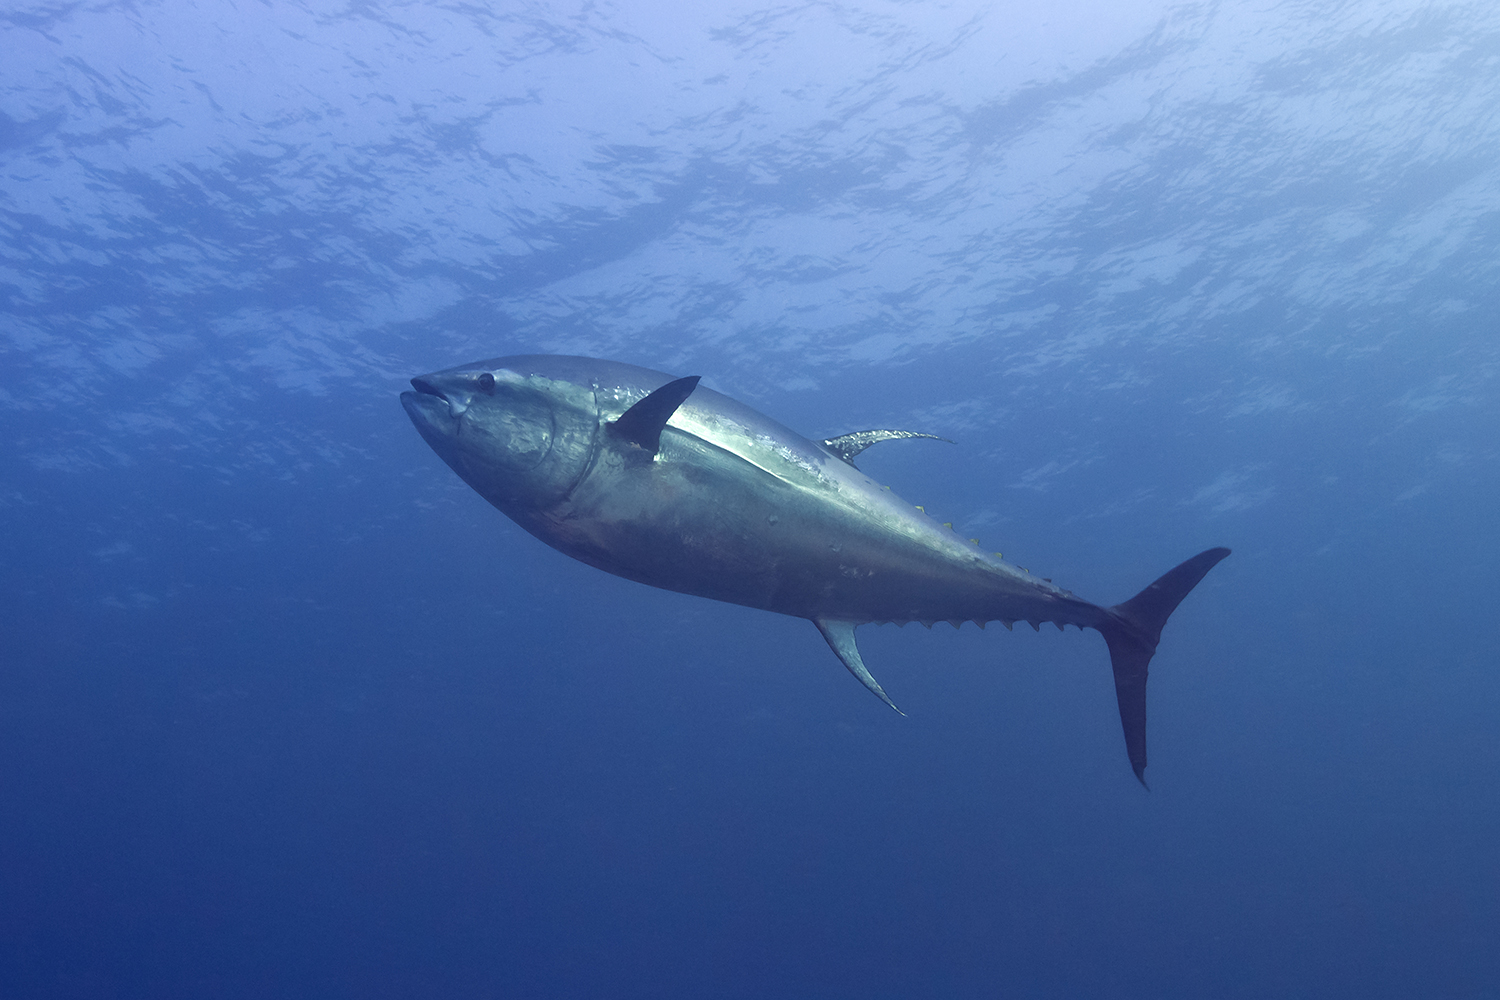Bluefina Tuna: (391, 330, 1229, 798)
